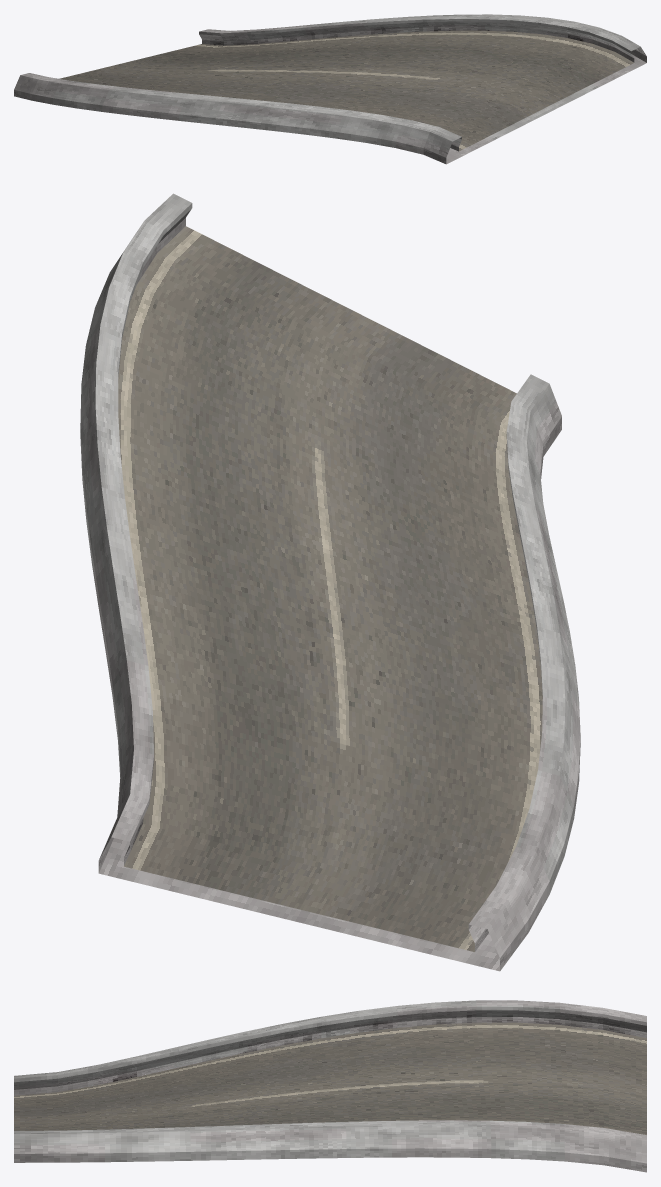
Rendered from chicane-left1x2.glb.
The picture shows the model from 3 angles, top to bottom: view 1: azimuth 30°, elevation 25°; view 2: azimuth 150°, elevation 25°; view 3: azimuth 270°, elevation 25°; orthographic projection. The views are drawn at different scales.
Visible parts, largest first — view 1: road-Chicane-HalfBankedLeft-BiSlopeDown-Down1-Left1-Size2; view 2: road-Chicane-HalfBankedLeft-BiSlopeDown-Down1-Left1-Size2; view 3: road-Chicane-HalfBankedLeft-BiSlopeDown-Down1-Left1-Size2.
Part boxes in pixels (x1,y1,x2,y2): road-Chicane-HalfBankedLeft-BiSlopeDown-Down1-Left1-Size2: [14, 14, 646, 164]; road-Chicane-HalfBankedLeft-BiSlopeDown-Down1-Left1-Size2: [80, 193, 580, 971]; road-Chicane-HalfBankedLeft-BiSlopeDown-Down1-Left1-Size2: [14, 1000, 646, 1172].
Bounding box in the file's own units: 2 × 0.5859 × 2.
2 materials, 2 textured.
